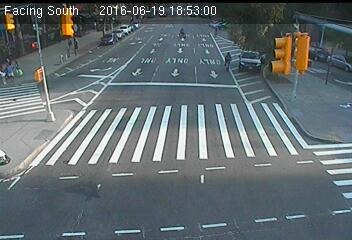neg: (180, 129, 200, 156), (80, 136, 99, 161), (322, 75, 341, 100), (270, 49, 288, 74), (33, 66, 51, 90), (289, 127, 307, 151), (126, 51, 144, 75), (37, 187, 55, 211), (225, 127, 242, 150), (284, 83, 301, 106), (171, 44, 188, 67), (84, 188, 101, 210), (41, 100, 57, 122), (29, 135, 45, 157), (258, 165, 274, 186), (127, 139, 142, 159), (177, 24, 191, 44), (190, 191, 204, 210), (96, 66, 110, 85), (112, 19, 125, 37)
pos: (221, 49, 236, 70)
